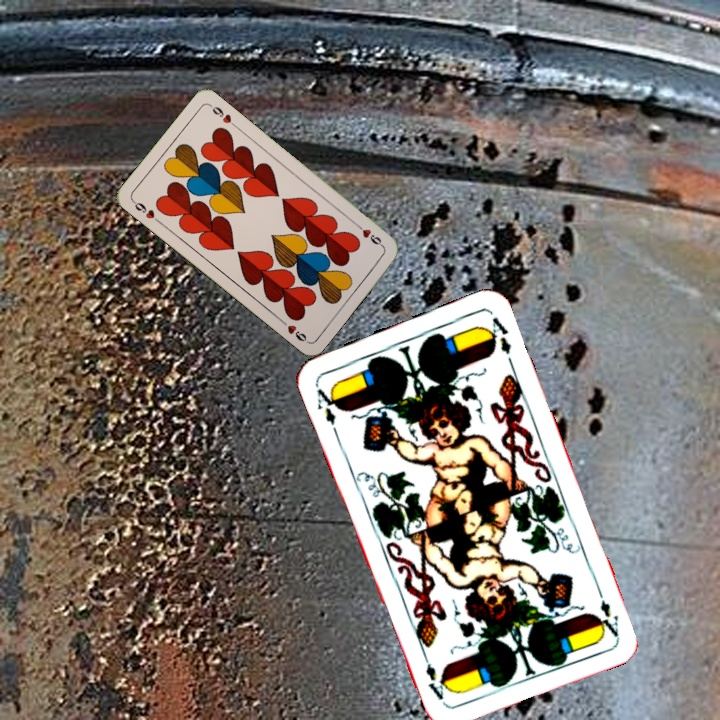EA: (313, 384, 343, 428), (593, 595, 622, 639)
H9: (128, 196, 163, 226), (352, 220, 386, 250)
